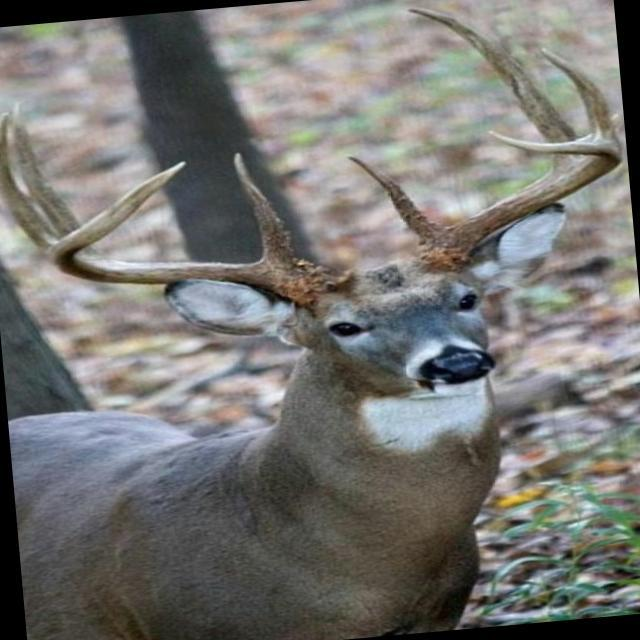L-F: (412, 129, 622, 272)
L-G1: (345, 154, 445, 243)
L-G3: (538, 46, 620, 145)
R-F: (48, 159, 354, 305)
R-G1: (232, 150, 296, 264)
